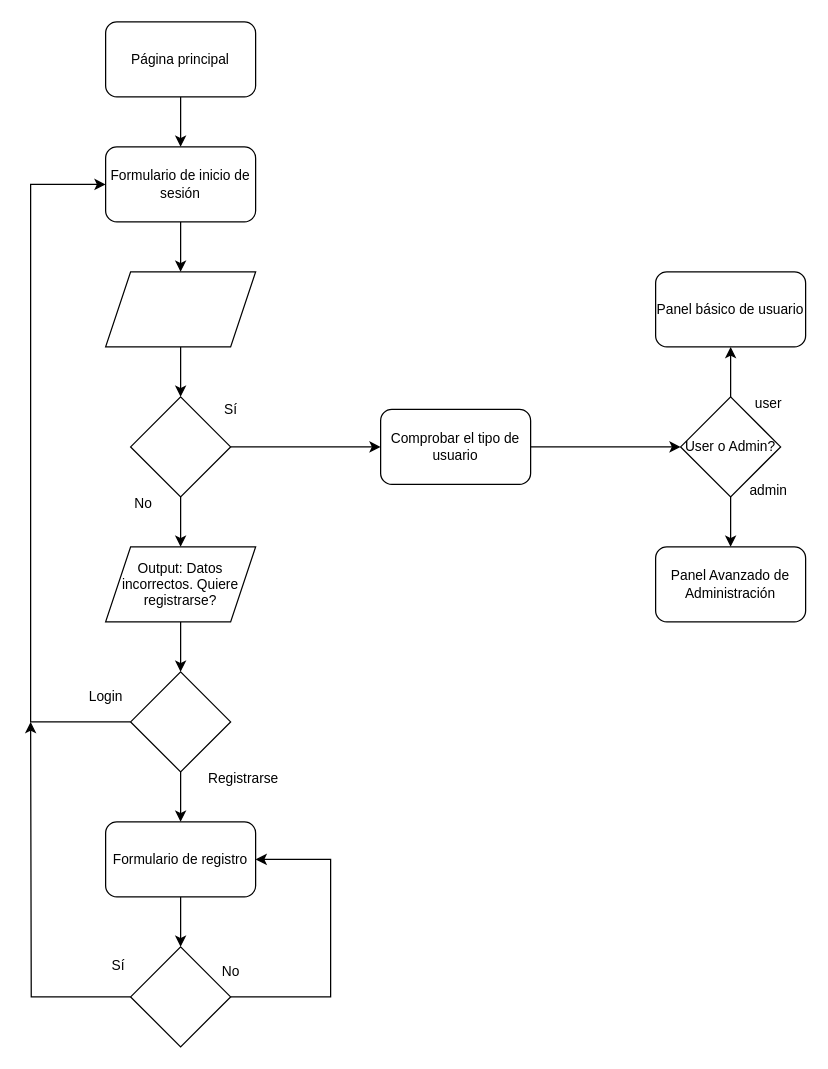
This 828x1069 diagram has some shape labels left out. Here are the shapes that lost their labels. From the top down, the box of each, then its label:
(104, 271, 256, 347): input: usuario y contraseña
(129, 396, 231, 497): Logeo correcto?
(129, 671, 231, 772): Registrarse o login
(129, 946, 231, 1047): Registro correcto?
